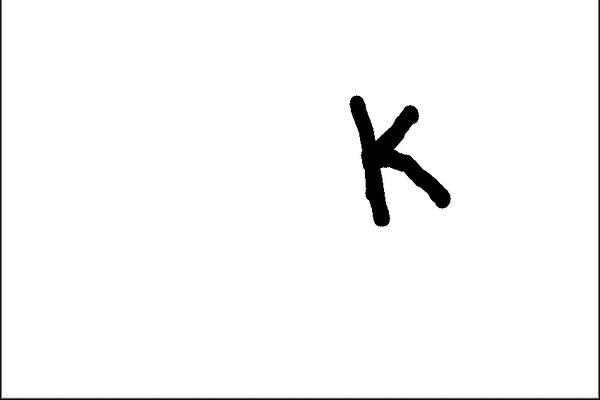K: (341, 80, 456, 232)
